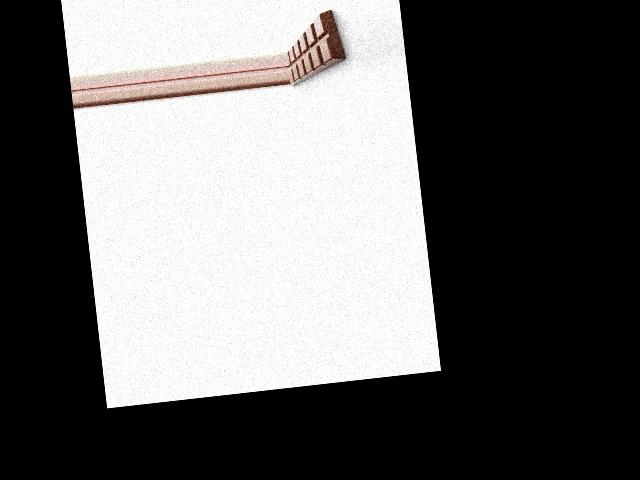chocolate: (283, 8, 350, 90)
